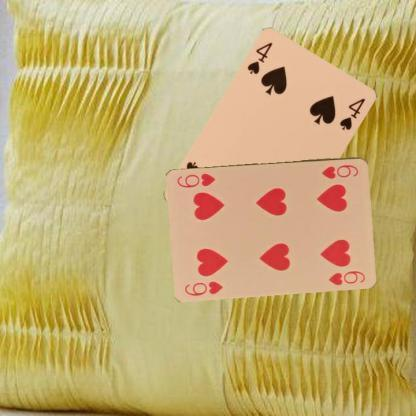4s: (244, 40, 274, 76)
6h: (182, 278, 224, 297), (319, 162, 360, 180)
